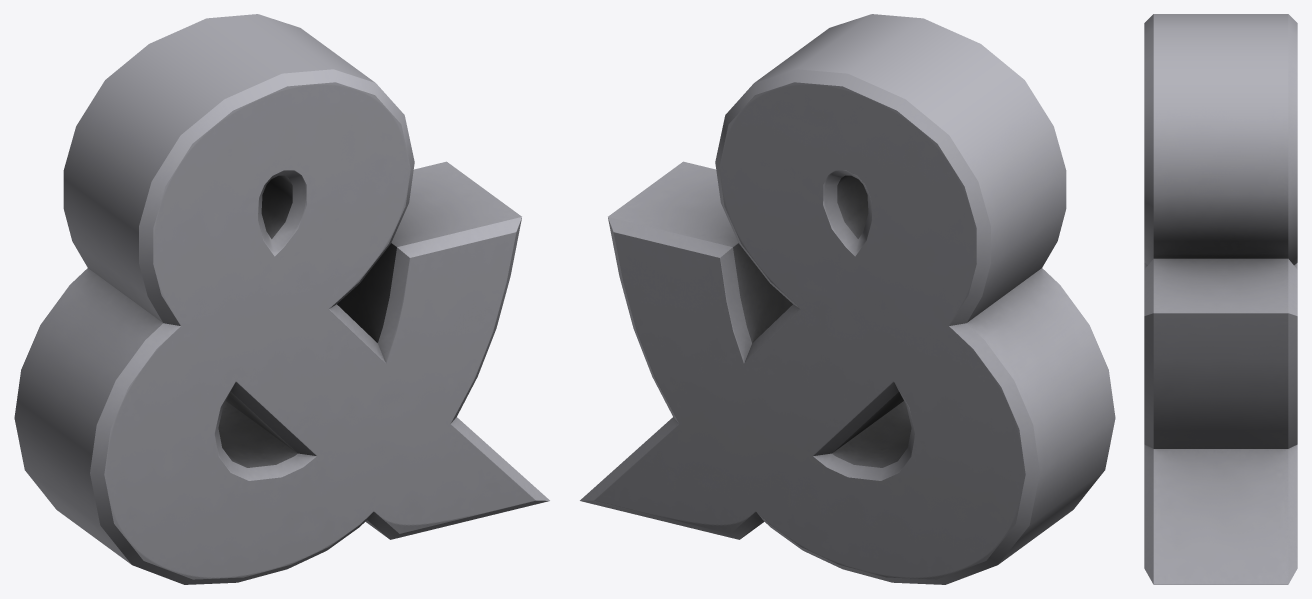
The model's file is And.FBX.
3 views of the same model, side by side, from view 1: azimuth 30°, elevation 25°; view 2: azimuth 150°, elevation 25°; view 3: azimuth 270°, elevation 25° (orthographic). The views are drawn at different scales.
Visible parts, largest first — view 1: And; view 2: And; view 3: And.
Part boxes in pixels (box(x1,y1,x2,y2)): And: box(14, 14, 549, 584); And: box(580, 14, 1115, 584); And: box(1144, 14, 1297, 584).
Size of the model in its own units: 102 by 106 by 33.
